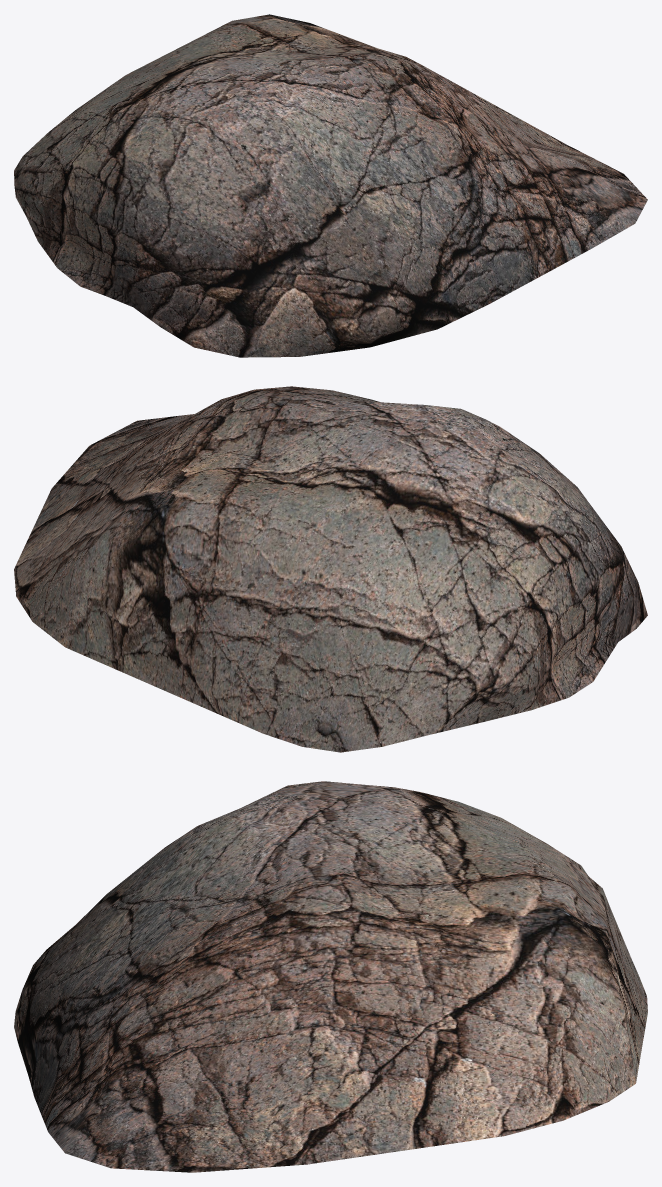
Rendered from Rock 1.fbx.
The picture shows the model from 3 angles, top to bottom: view 1: azimuth 30°, elevation 25°; view 2: azimuth 150°, elevation 25°; view 3: azimuth 270°, elevation 25°; orthographic projection. The views are drawn at different scales.
Parts seen in each view (by area): view 1: Rock 1; view 2: Rock 1; view 3: Rock 1.
Boxes of the visible parts, left/top/right/bottom form: Rock 1: left=14, top=14, right=647, bottom=357; Rock 1: left=14, top=386, right=647, bottom=752; Rock 1: left=14, top=781, right=647, bottom=1172.
Bounding box in the file's own units: 357 × 130 × 317.
